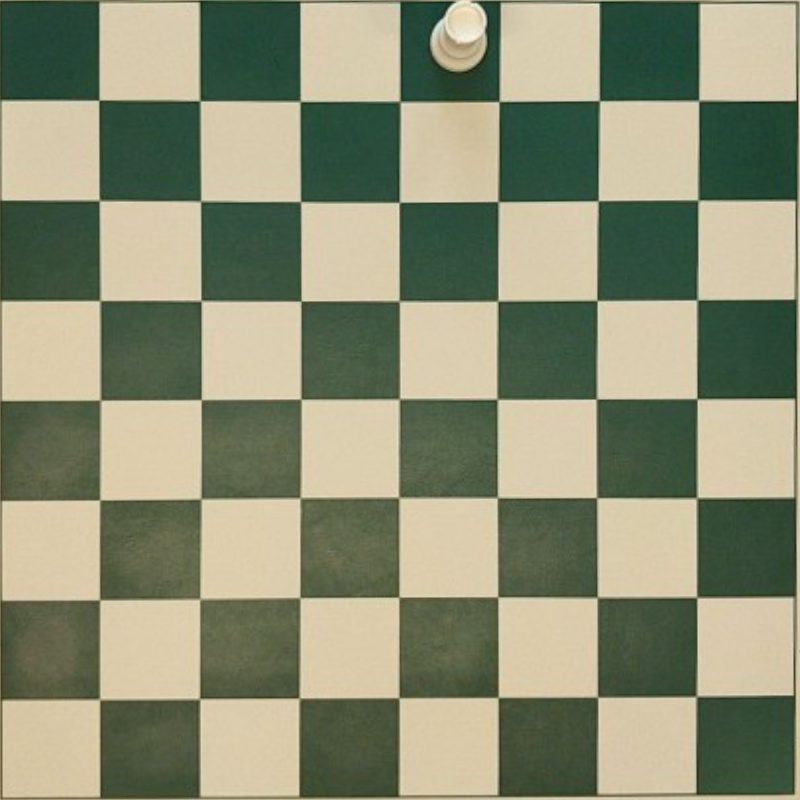white-rook: (429, 0, 488, 73)
